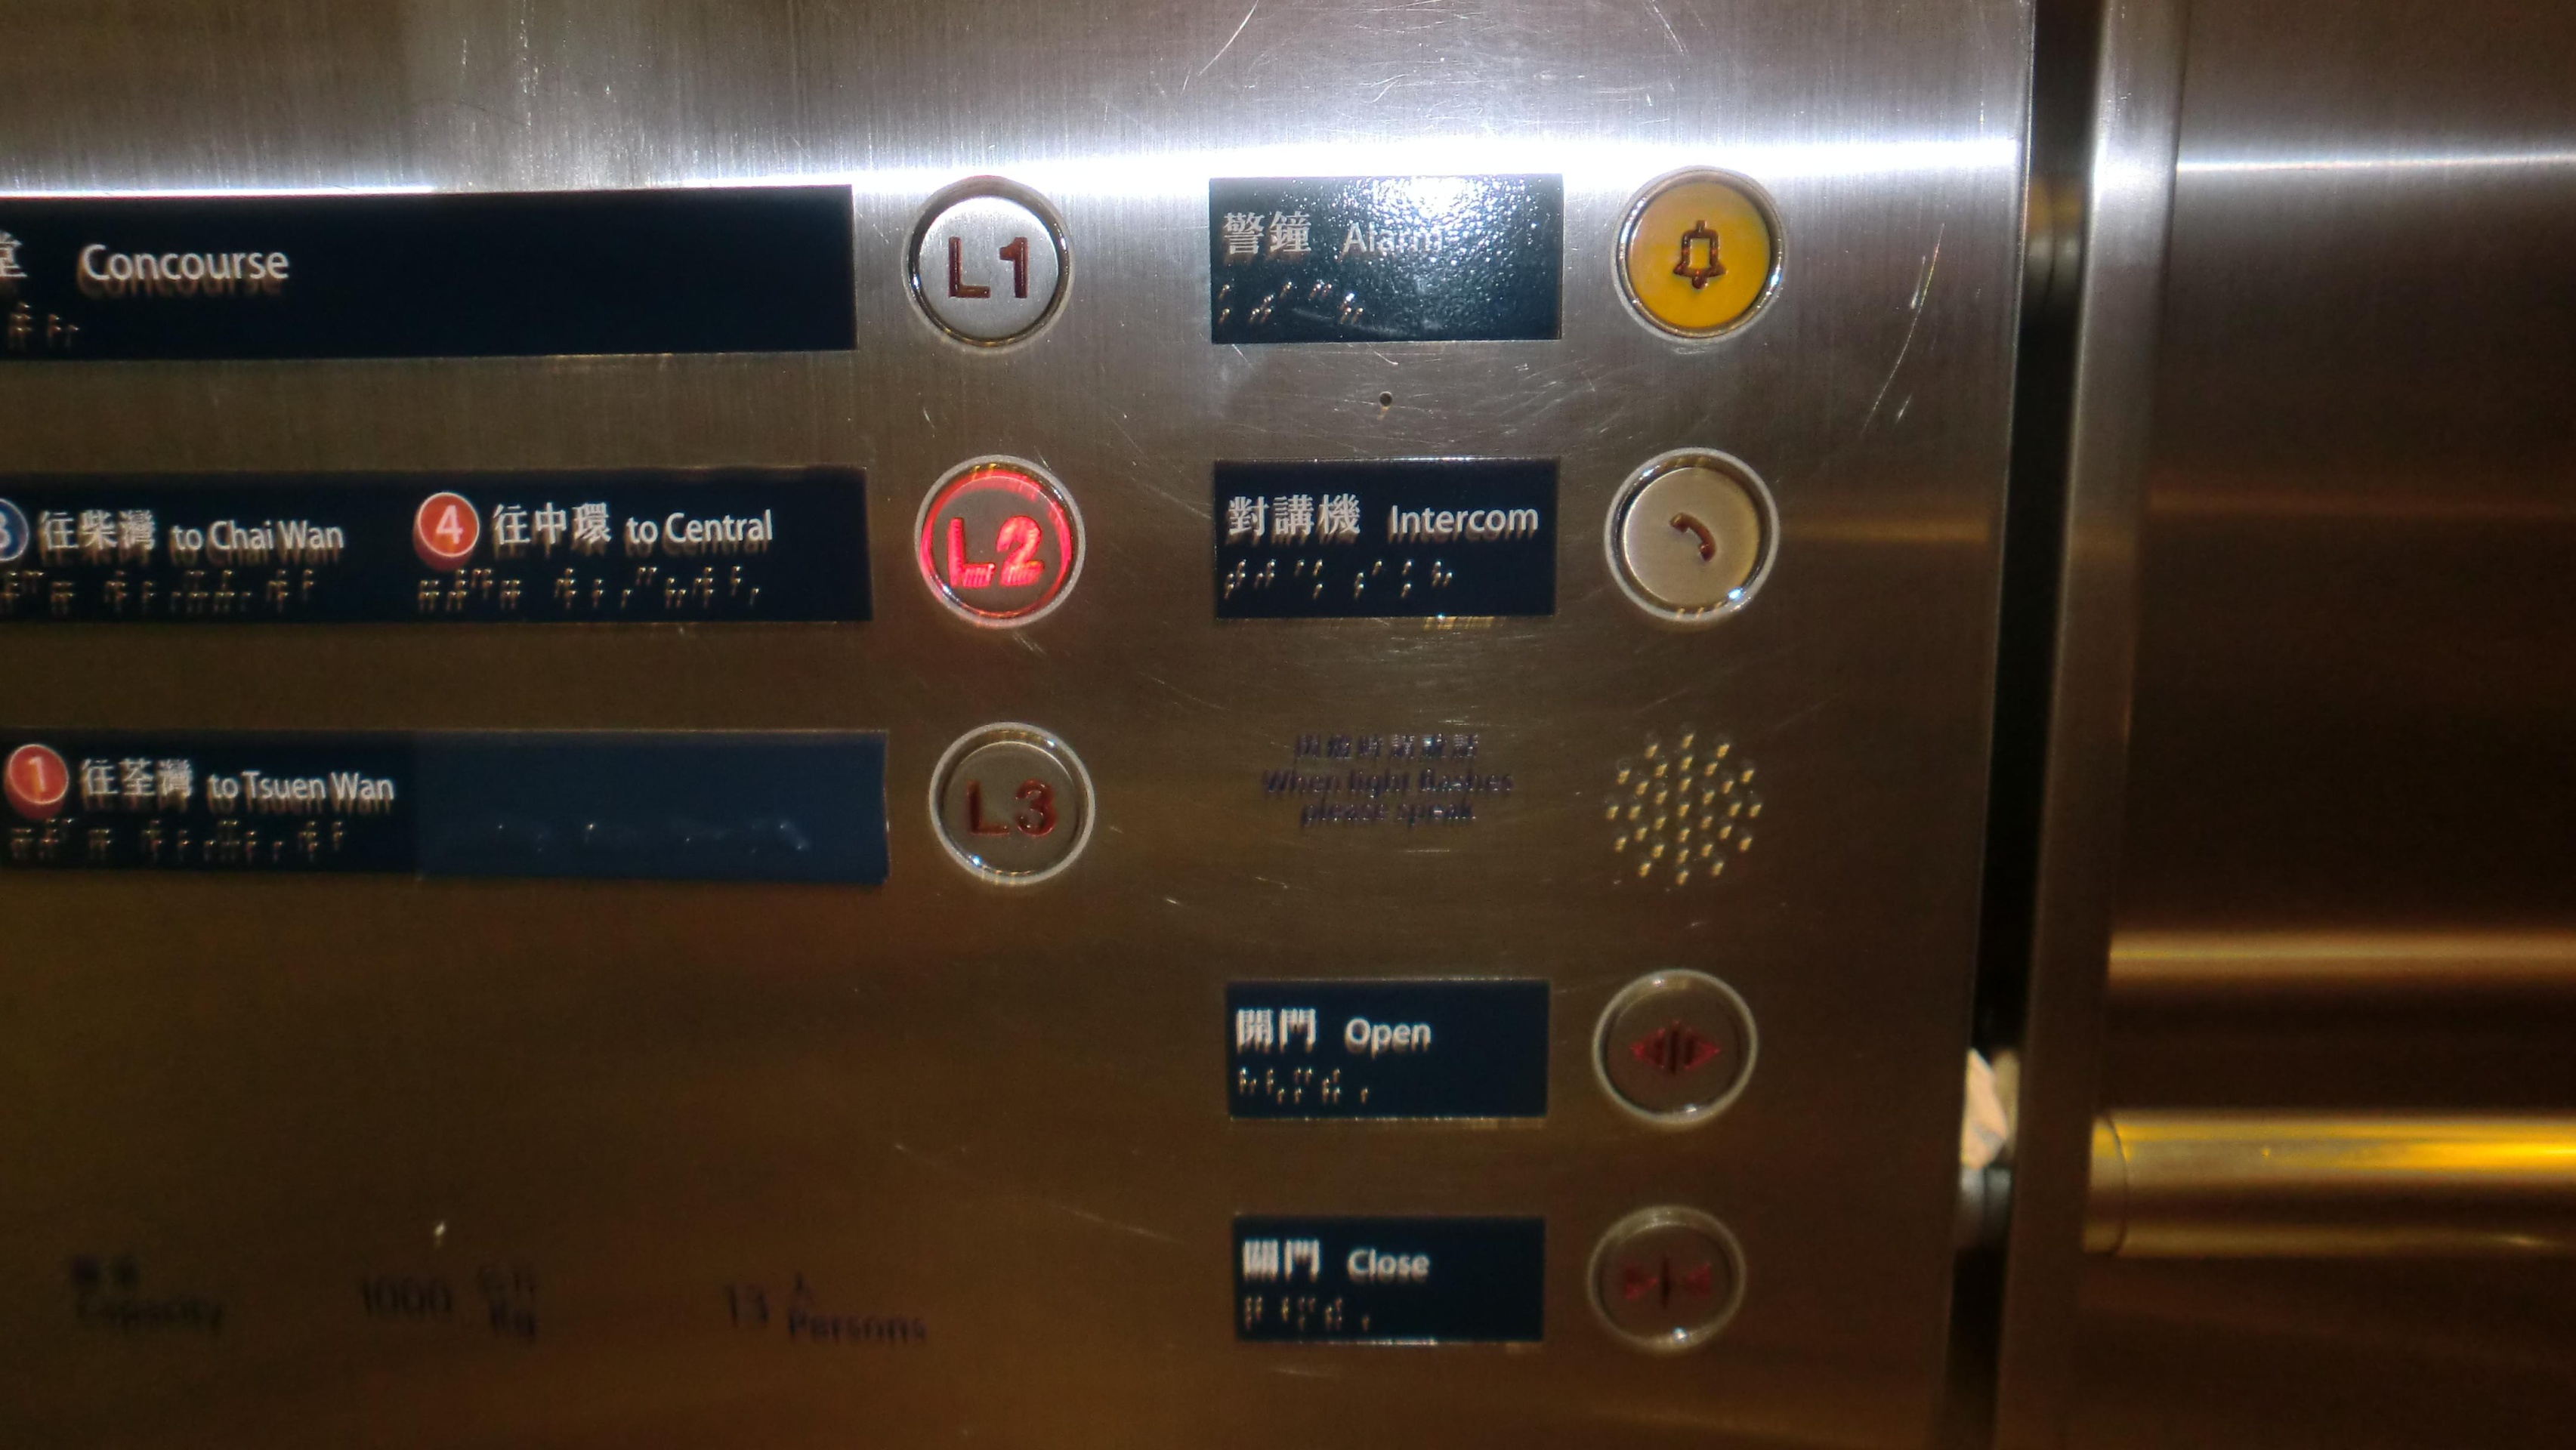L1: (901, 175, 1076, 355)
L2: (911, 453, 1086, 630)
L3: (927, 721, 1097, 886)
alarm: (1608, 164, 1790, 347)
call: (1603, 447, 1780, 624)
close: (1585, 1202, 1746, 1355)
open: (1592, 969, 1764, 1128)
